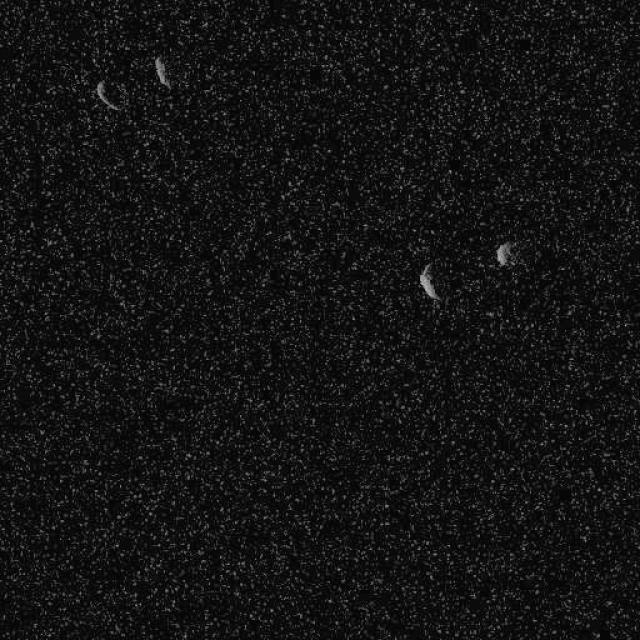D2: (418, 261, 442, 301), (94, 79, 120, 111), (152, 54, 172, 90), (495, 240, 513, 266)
